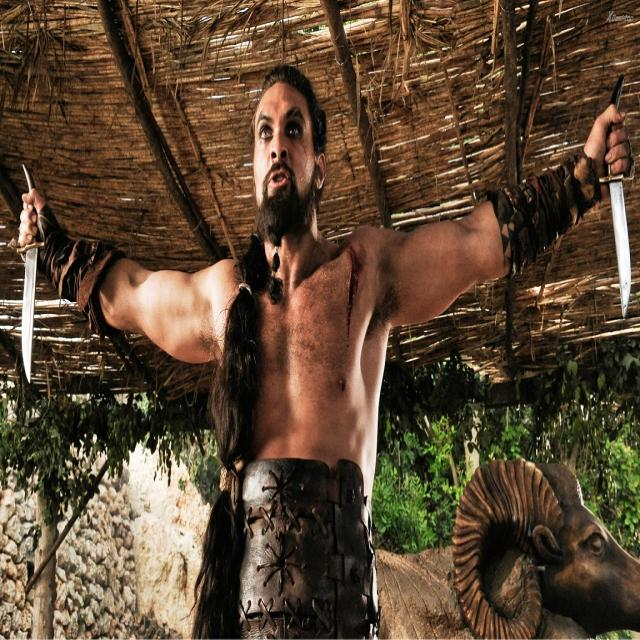knife: (599, 168, 635, 336), (18, 237, 47, 390)
